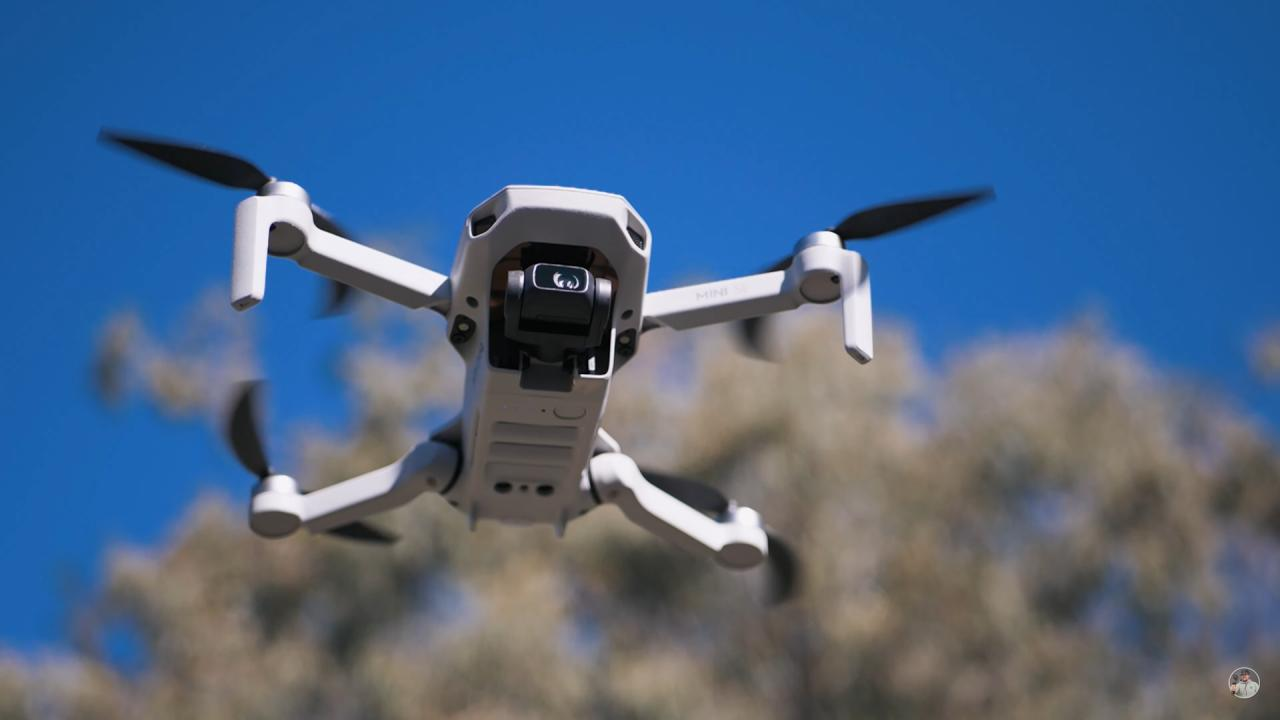Drone: (69, 96, 1028, 636)
